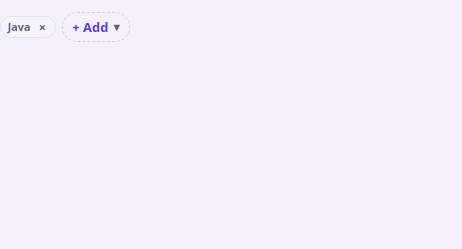
editing a profile's lists in place › adds an IT skill from the list (favourites first) and removes one
Later steps or results of the test are not shown.
Click the button with aria-label "Add an IT skill" at [96, 27], box [62,12,130,42]
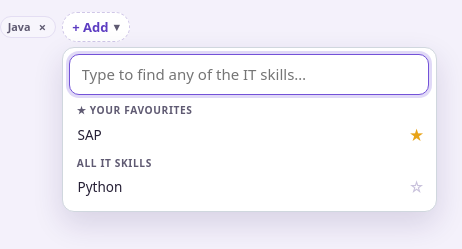
Expected: the list named "Your favourites" is shown, [69,119,429,152]
